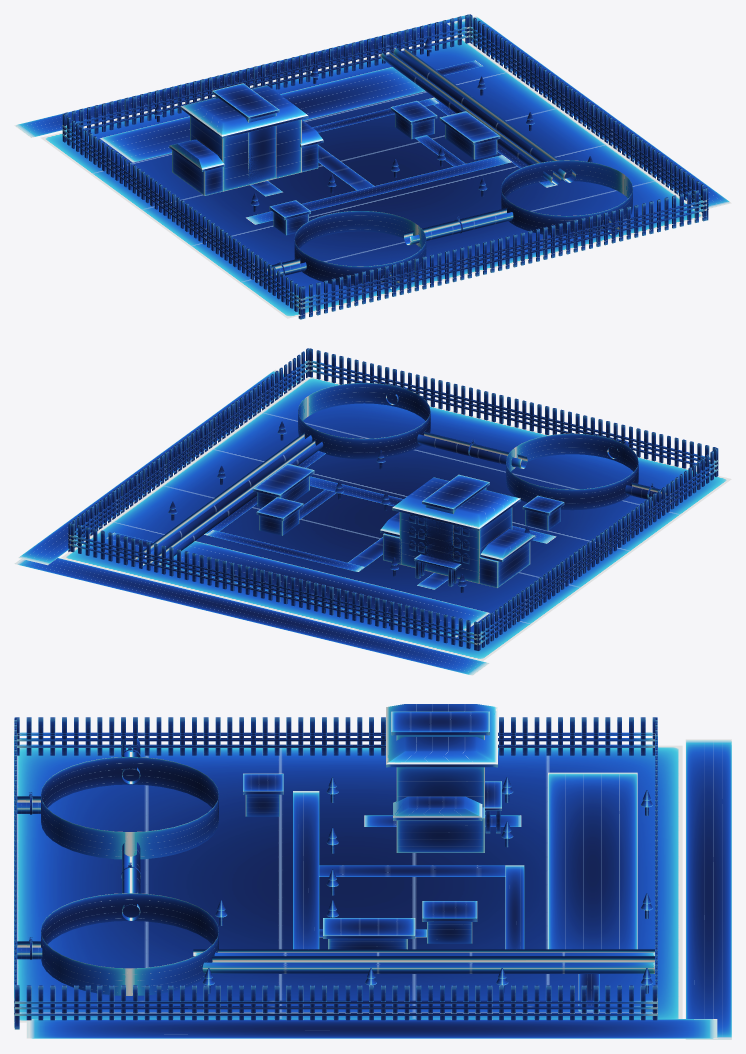
3 renders of one model, top to bottom at view 1: azimuth 30°, elevation 25°; view 2: azimuth 150°, elevation 25°; view 3: azimuth 270°, elevation 25°, orthographic. The views are drawn at different scales.
Visible parts, largest first — view 1: 管道.10; view 2: 管道.10; view 3: 管道.10.
Boxes of the visible parts, x1,y1,x2,y2 form: 管道.10: (14, 14, 731, 319); 管道.10: (14, 348, 731, 675); 管道.10: (14, 704, 731, 1039).
Size of the model in its own units: 247 by 40.79 by 249.
1 material, 1 textured.
